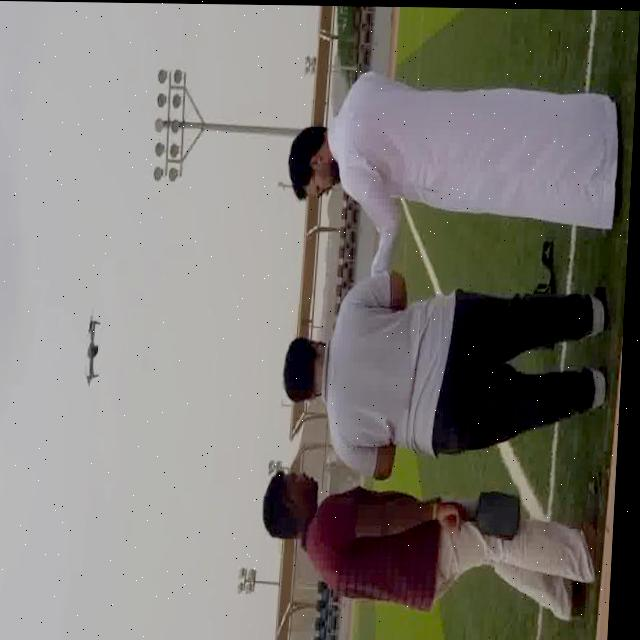drone: (82, 308, 106, 385)
